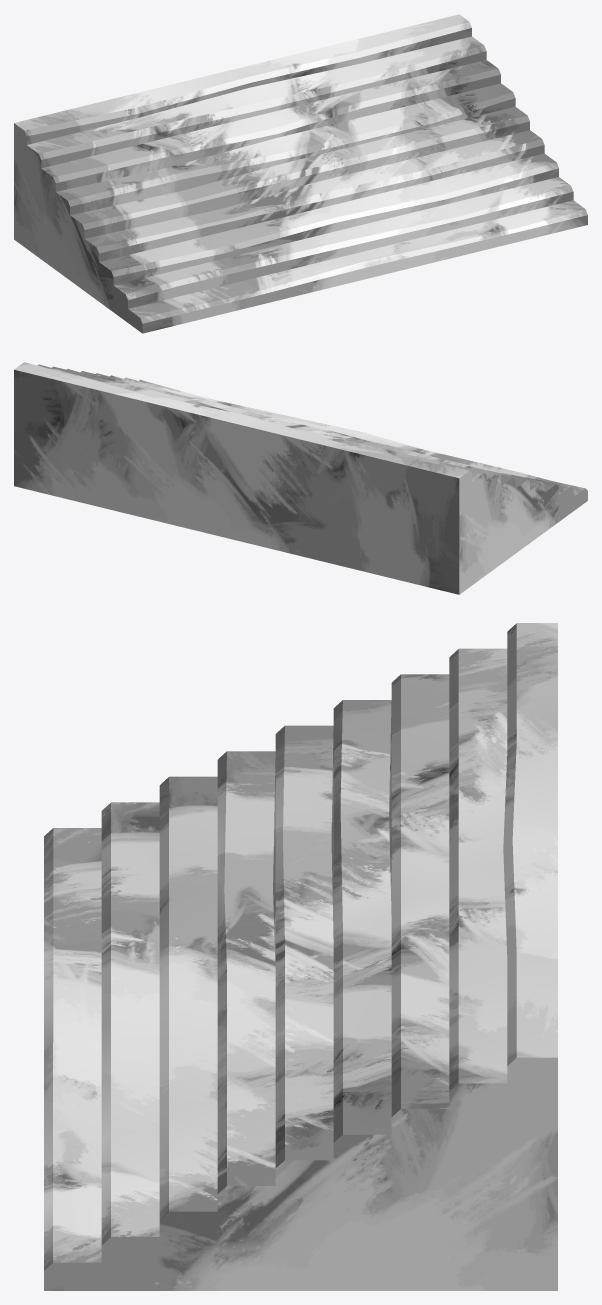
File: BStairs_B.fbx
3 renders of one model, top to bottom at view 1: azimuth 30°, elevation 25°; view 2: azimuth 150°, elevation 25°; view 3: azimuth 270°, elevation 25°, orthographic. The views are drawn at different scales.
Parts seen in each view (by area): view 1: Stairs_B.002; view 2: Stairs_B.002; view 3: Stairs_B.002.
Part boxes in pixels (x1=…): Stairs_B.002: x1=14, y1=14, x2=587, y2=333; Stairs_B.002: x1=14, y1=362, x2=587, y2=594; Stairs_B.002: x1=44, y1=623, x2=557, y2=1290.
Bounding box in the file's own units: 800 × 200 × 400.
